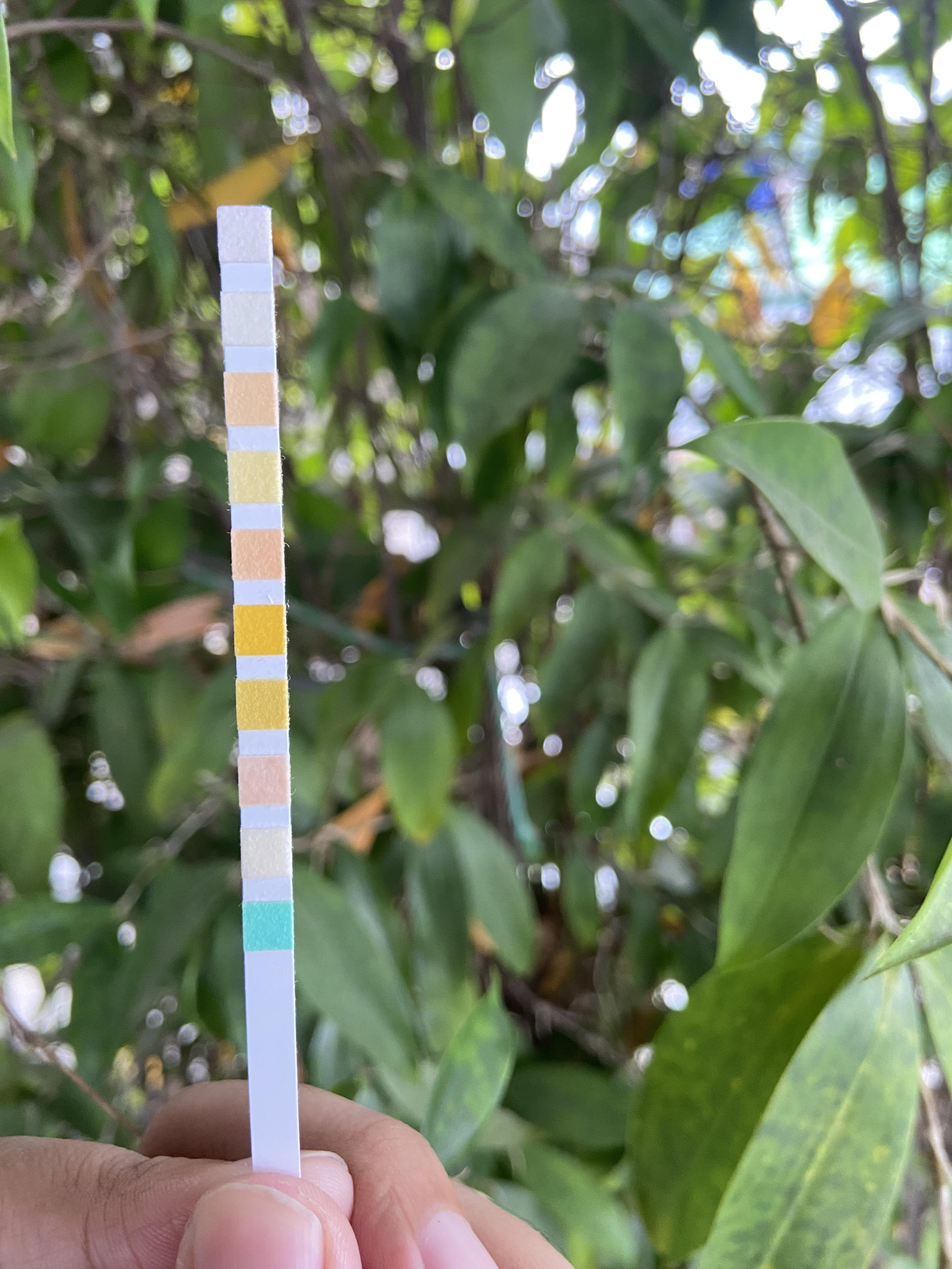Bilirubin: (243, 831, 290, 876)
Blood: (238, 607, 282, 654)
Glucose: (244, 902, 292, 949)
Ketone: (241, 757, 288, 805)
Leukocytes: (221, 210, 268, 260)
Nitrite: (225, 294, 273, 344)
Protein: (232, 453, 278, 501)
SpGravity: (238, 682, 285, 728)
Urobilinogen: (229, 375, 273, 423)
pH: (233, 530, 280, 578)
strip: (215, 205, 300, 1160)
